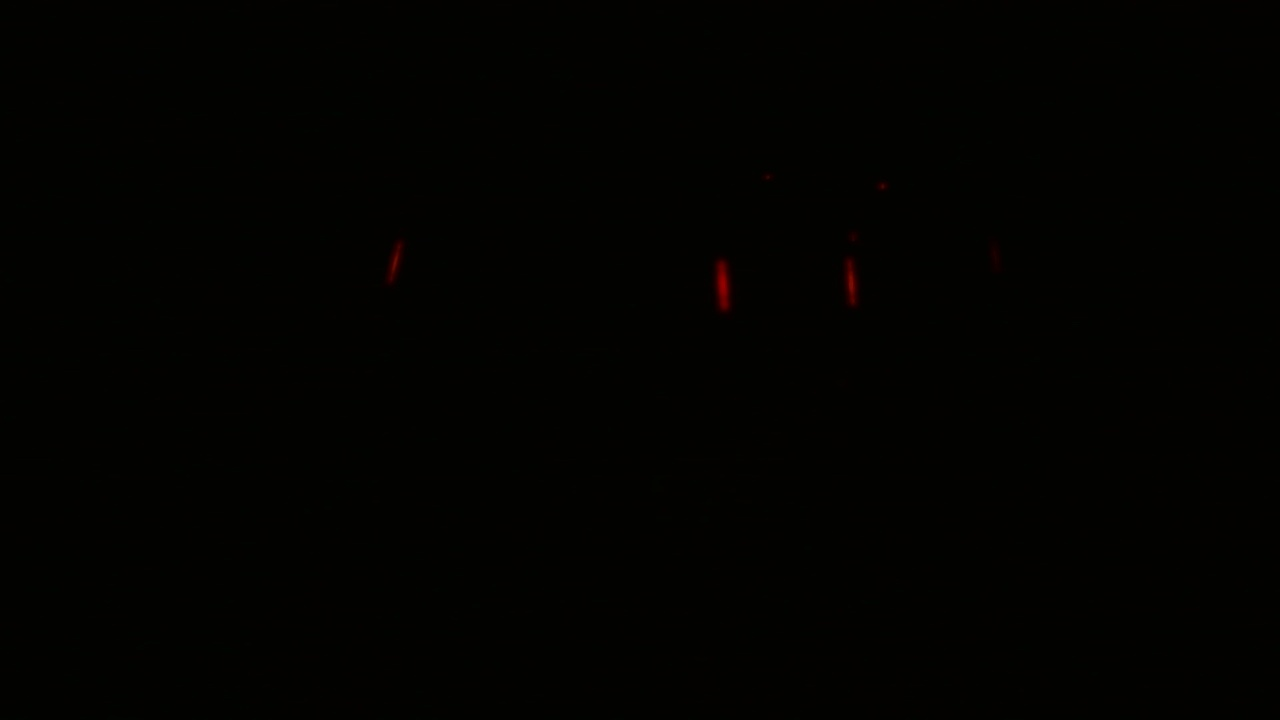pair1: (711, 253, 859, 313)
